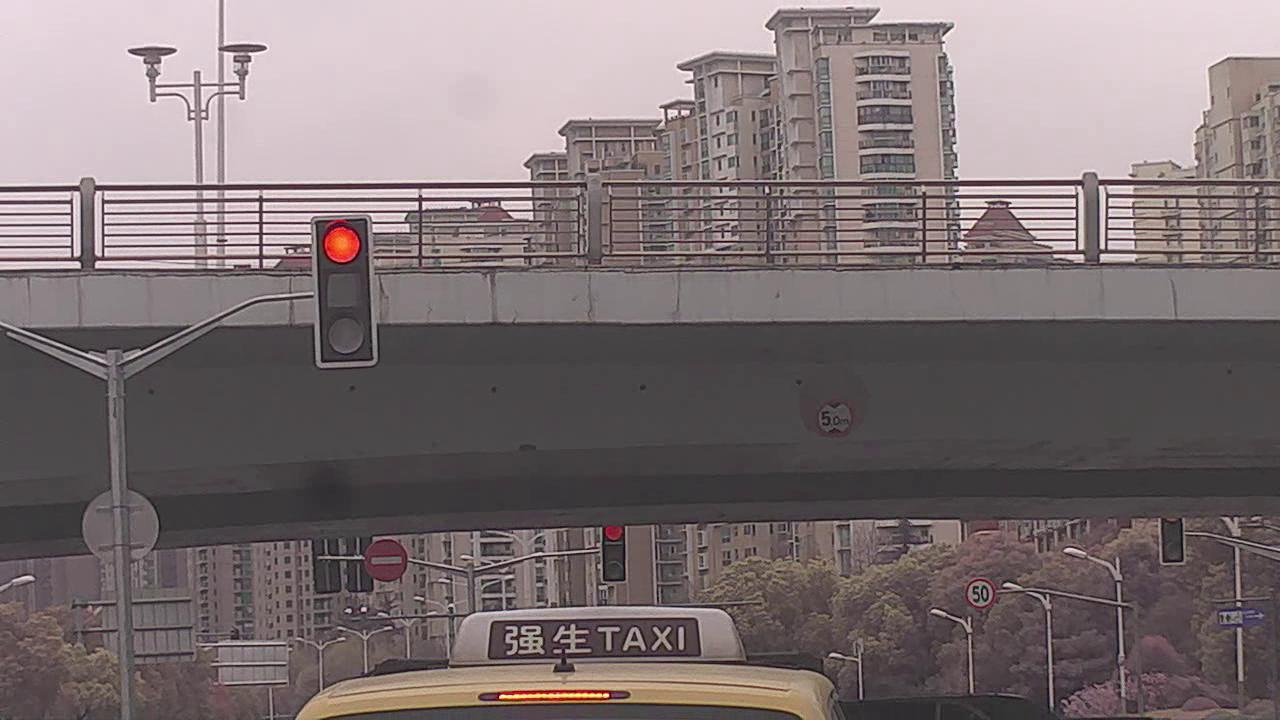traffic_light: (305, 213, 382, 367), (603, 526, 629, 581)
